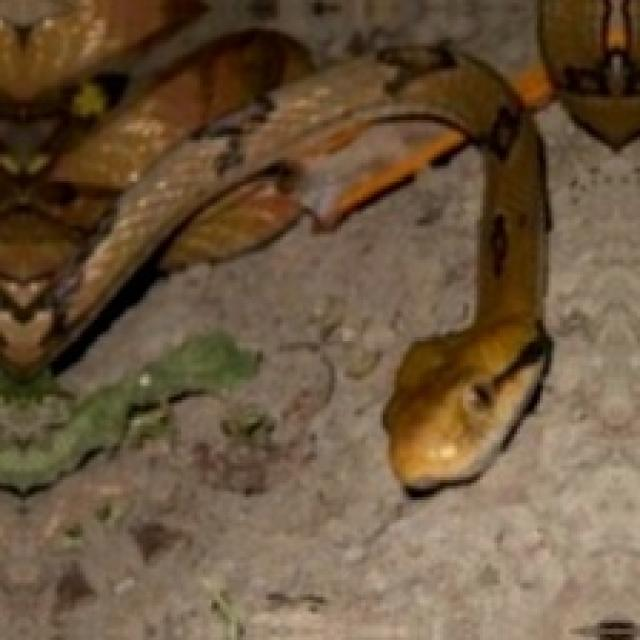dog-toothed cat snake: (0, 0, 637, 494)
